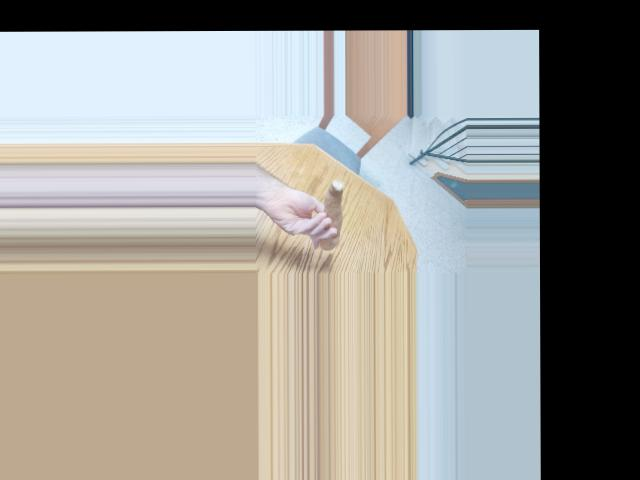sweet_potato: (321, 173, 343, 250)
